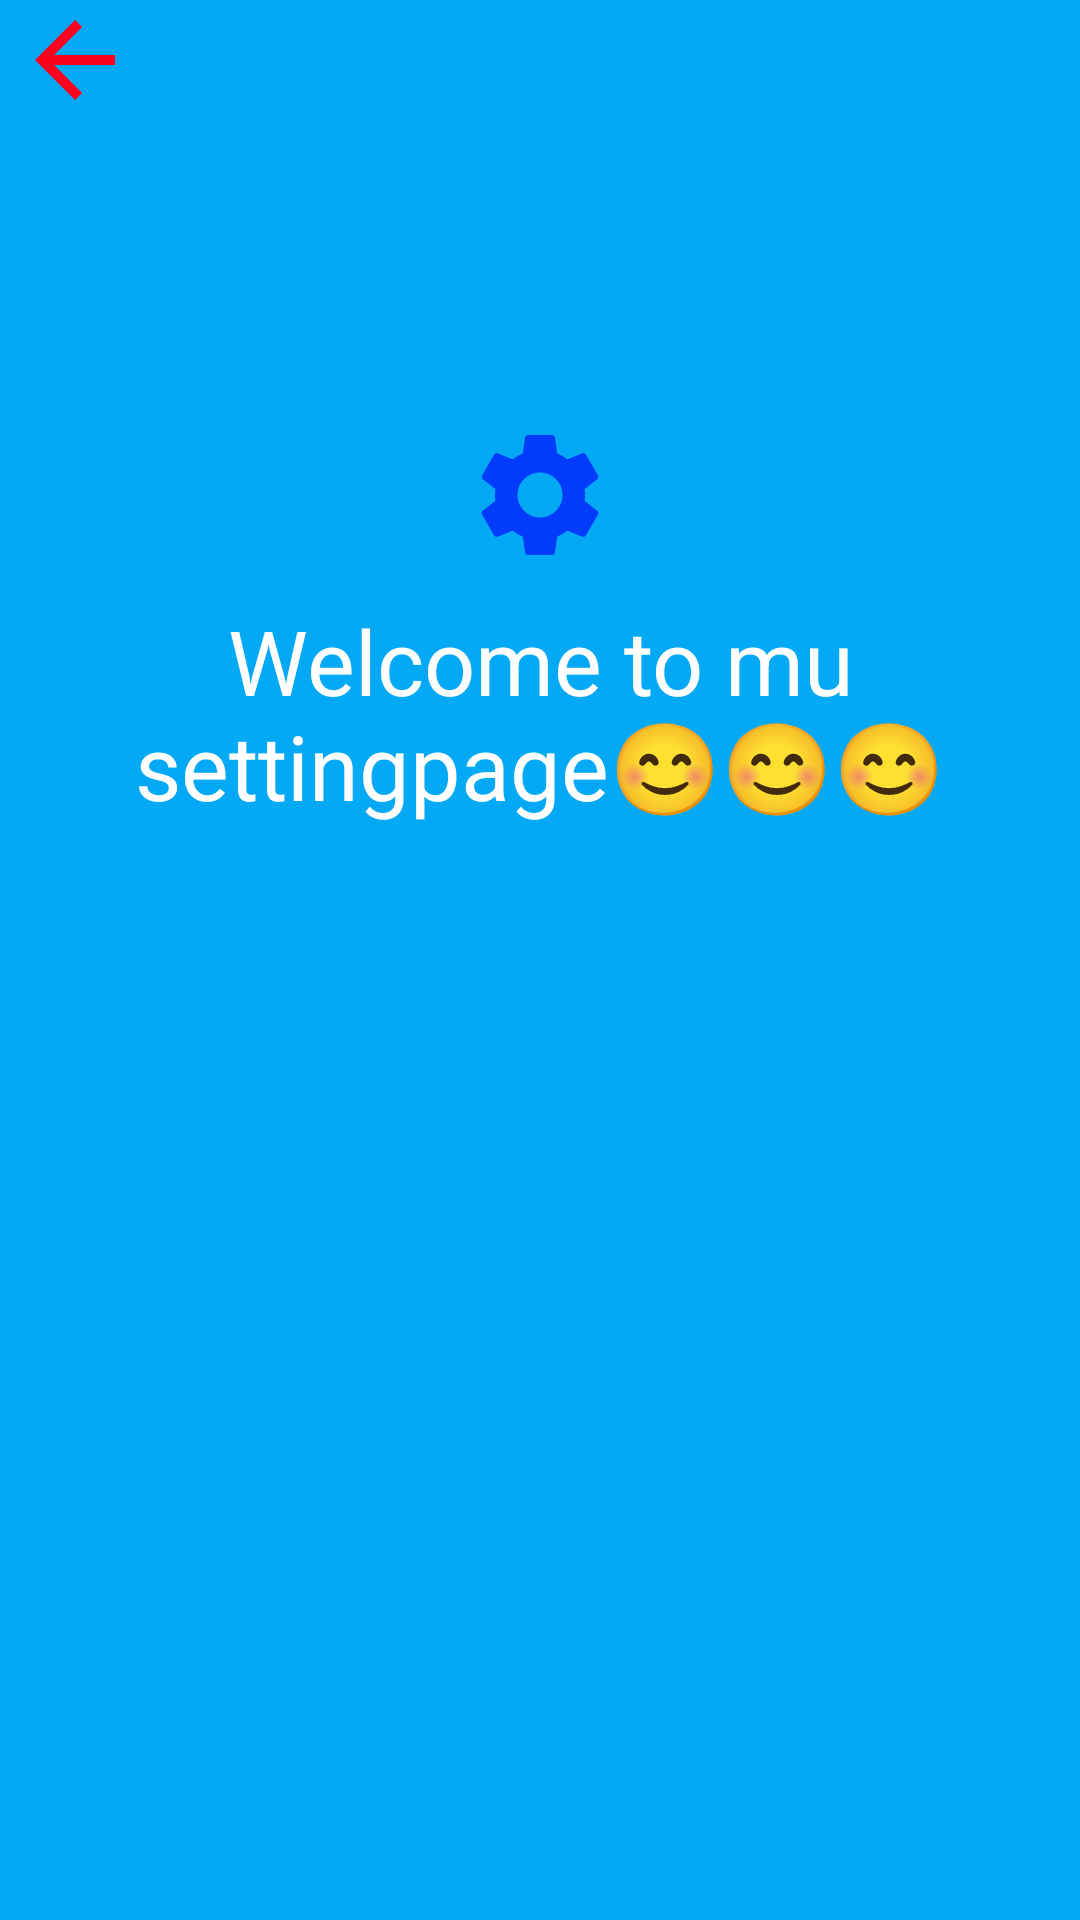

Where to tap for icons on this 1080px x 1920px app screen, as [x,y]:
arrow back: [75,60]
settings: [540,495]
